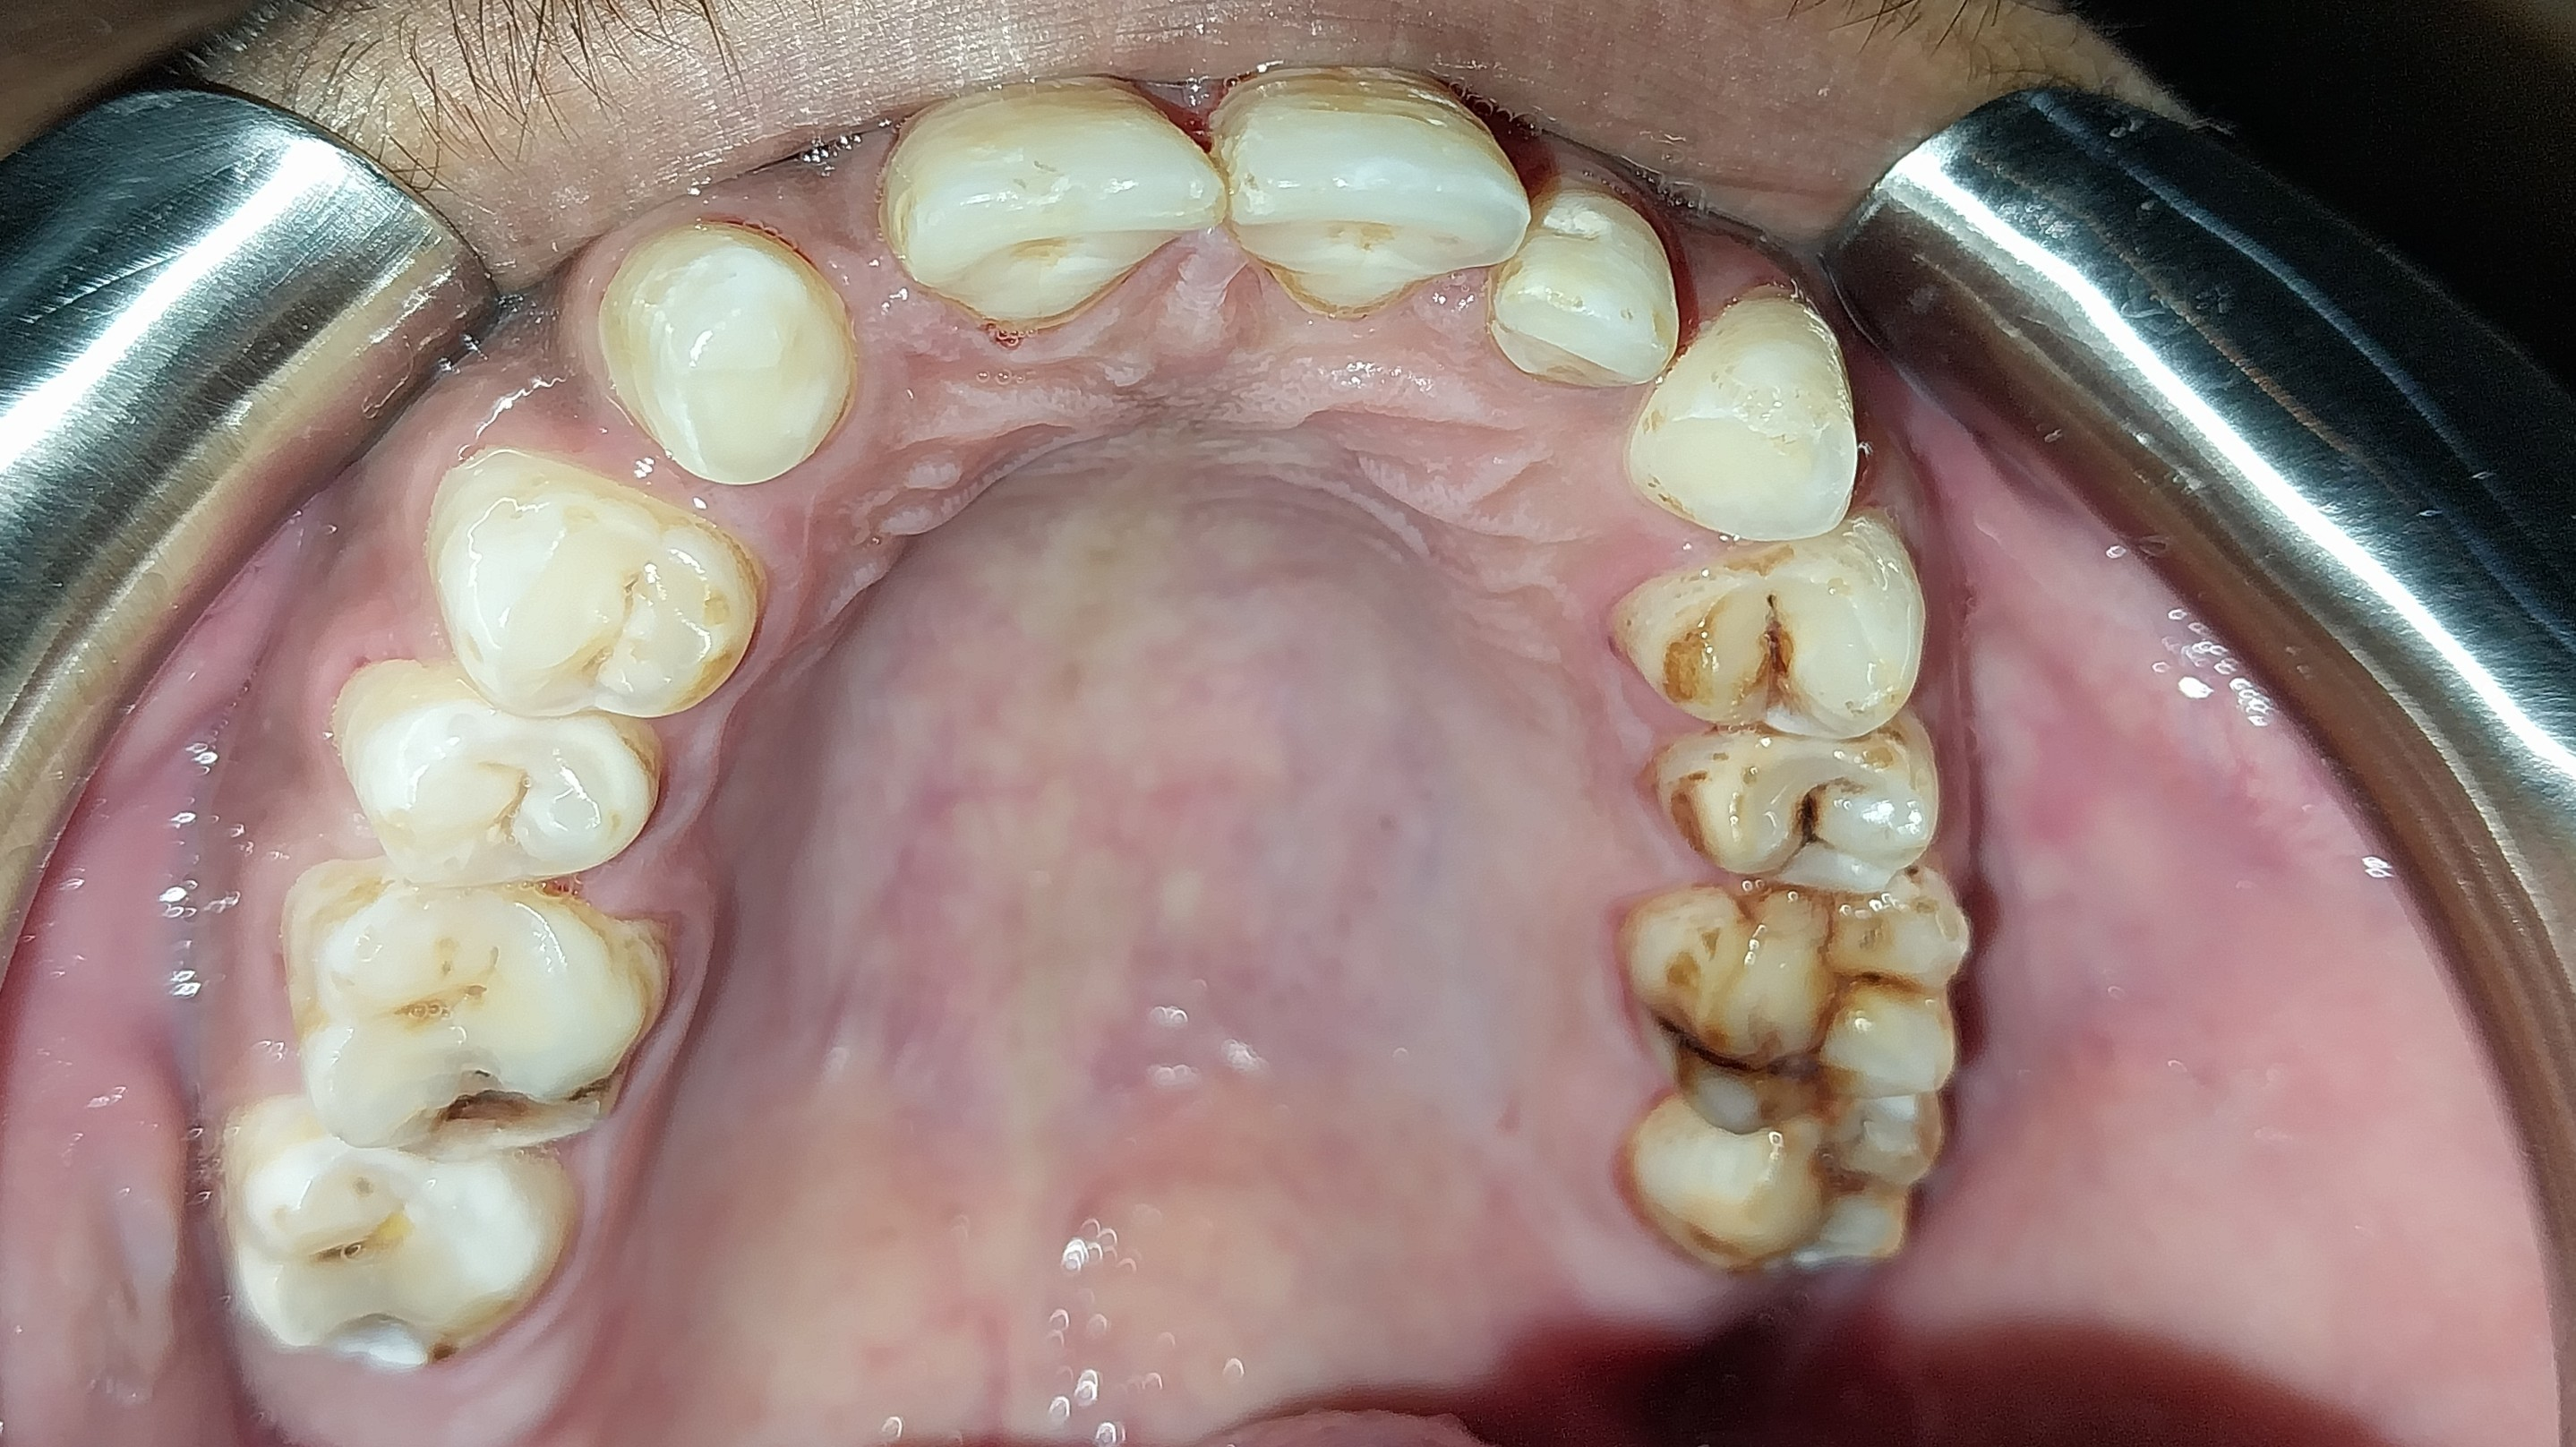D: (288, 869, 665, 1159), (205, 1108, 565, 1368), (1633, 888, 1959, 1120), (1609, 524, 1929, 737), (1633, 1090, 1937, 1279), (1652, 715, 1949, 890)
